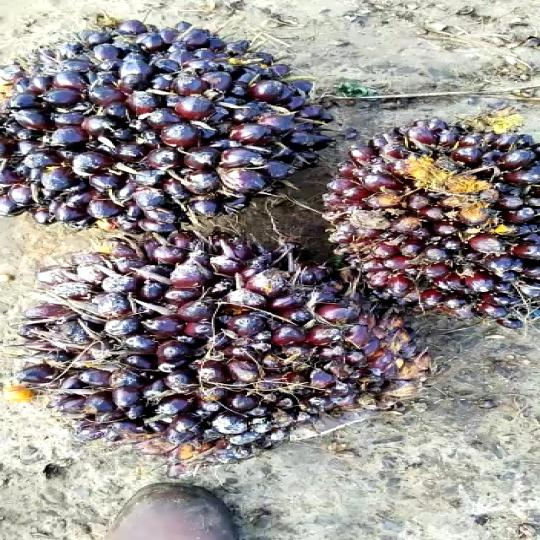kurang masak: (13, 238, 458, 459), (7, 18, 332, 254), (320, 110, 540, 319)
